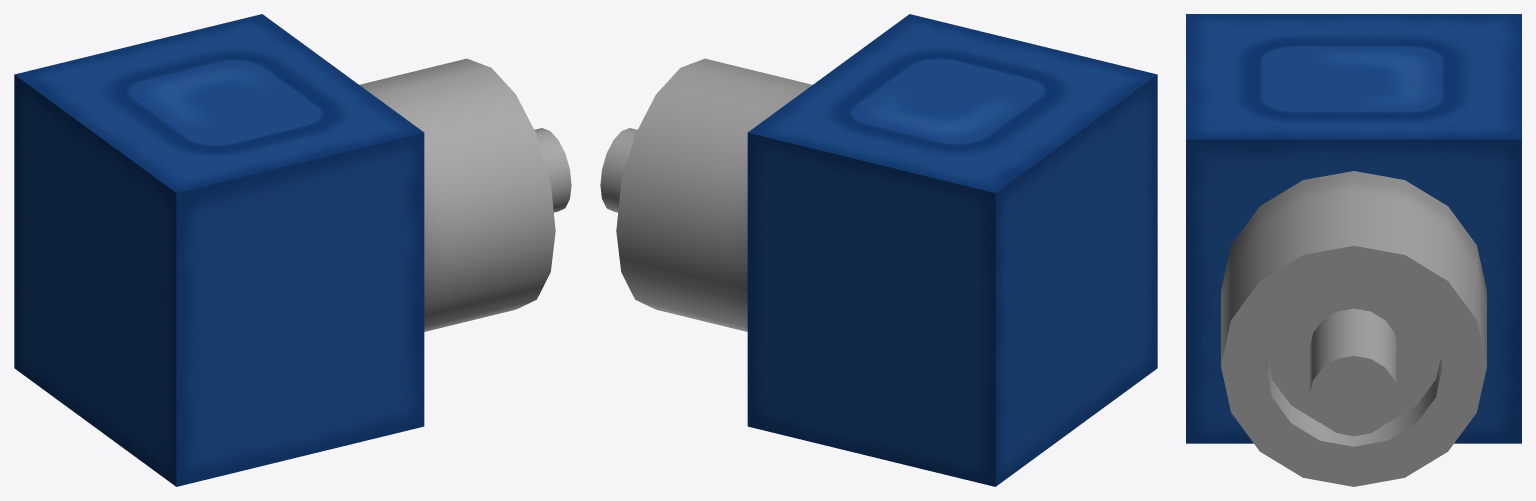
The model's file is Port_02.fbx.
The picture shows the model from 3 angles, left to right: view 1: azimuth 30°, elevation 25°; view 2: azimuth 150°, elevation 25°; view 3: azimuth 270°, elevation 25°; orthographic projection. The views are drawn at different scales.
Parts seen in each view (by area): view 1: Port_02; view 2: Port_02; view 3: Port_02.
Part boxes in pixels (left/top/right/bottom): Port_02: left=14, top=14, right=571, bottom=486; Port_02: left=600, top=14, right=1157, bottom=486; Port_02: left=1186, top=14, right=1521, bottom=486.
Bounding box in the file's own units: 1.62 × 1 × 1.
